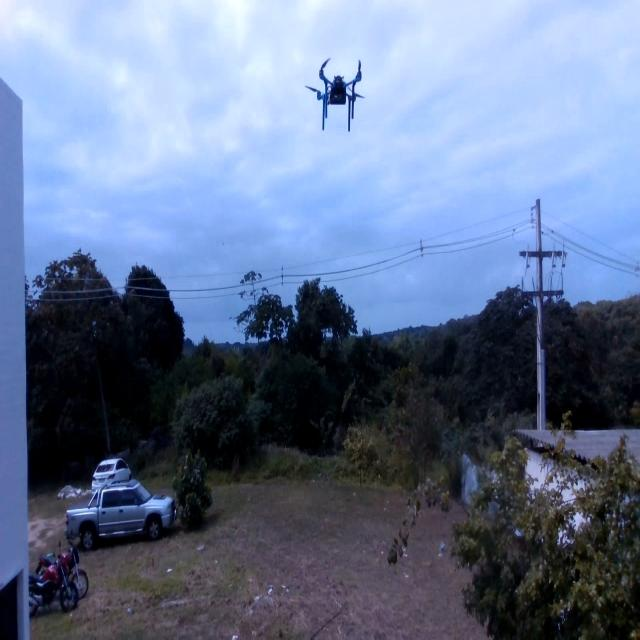-uav-: (297, 44, 373, 144)
